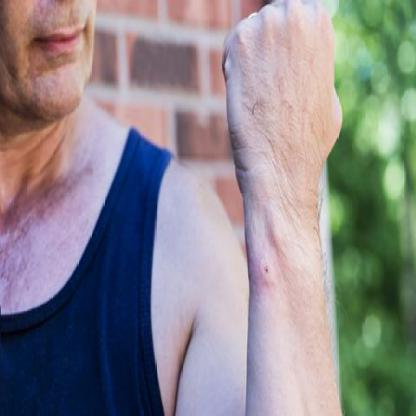Wasp: (254, 244, 278, 291)
